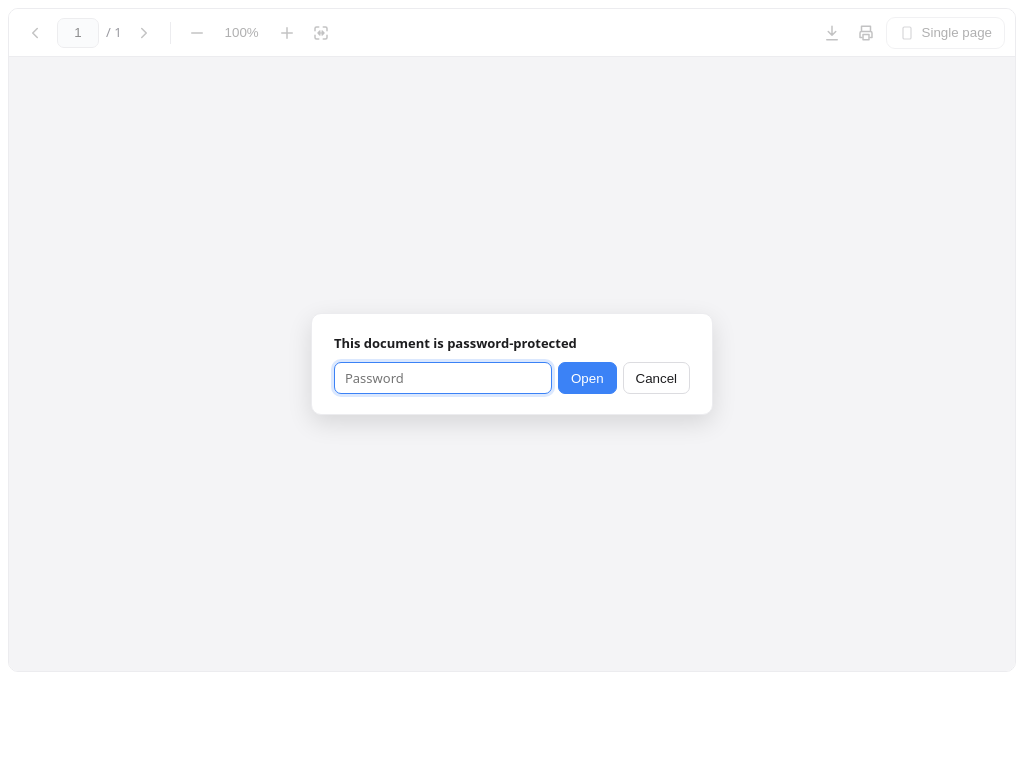
Scenario: <DocViewer> password prompt › shows the error state when the user cancels
expect the password field labelled "Password" is shown: met, box [334, 362, 552, 394]
Click the button "Cancel": x=656, y=378 [622, 362, 690, 394]
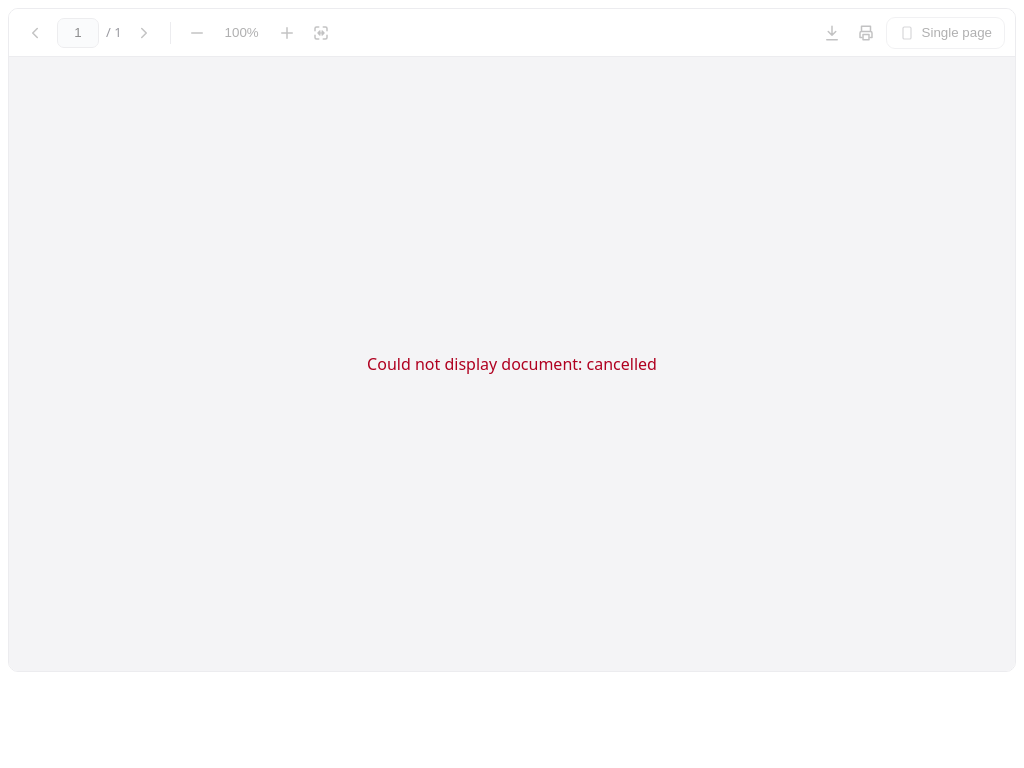
expect the message "Could not display document: cancelled" is shown: met, box [367, 353, 657, 375]
